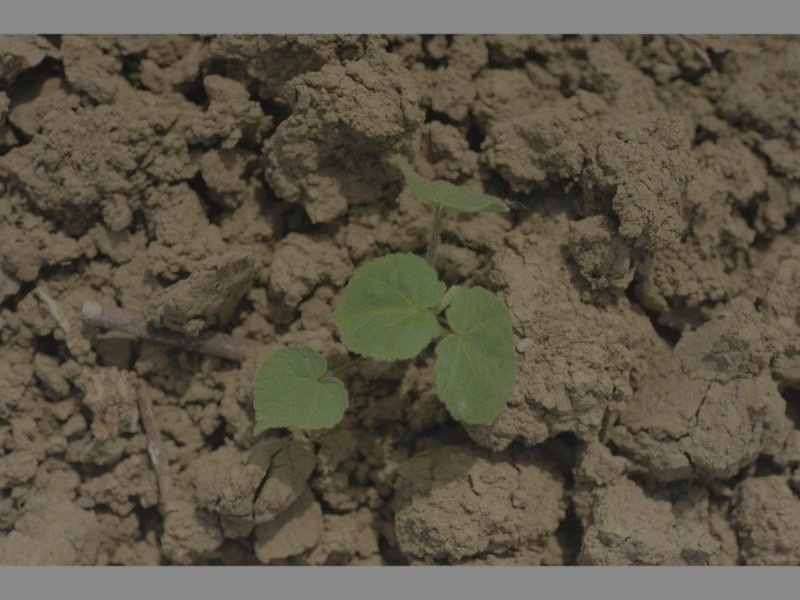velvet: (252, 158, 518, 442)
